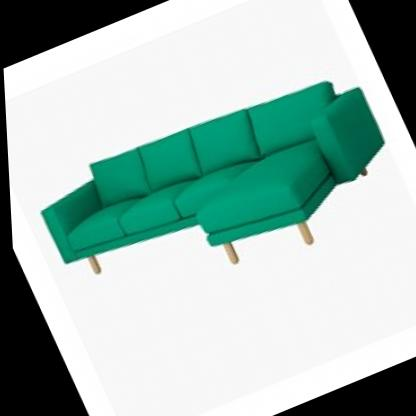Sofa: (4, 30, 416, 338)
